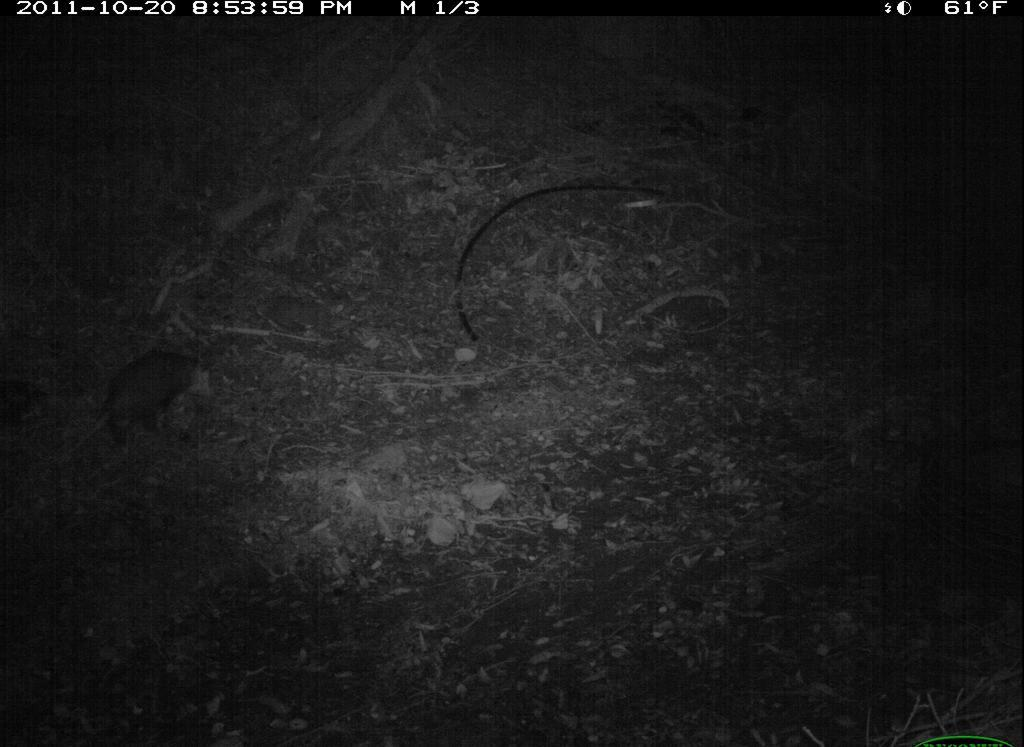opossum: (63, 340, 210, 465)
